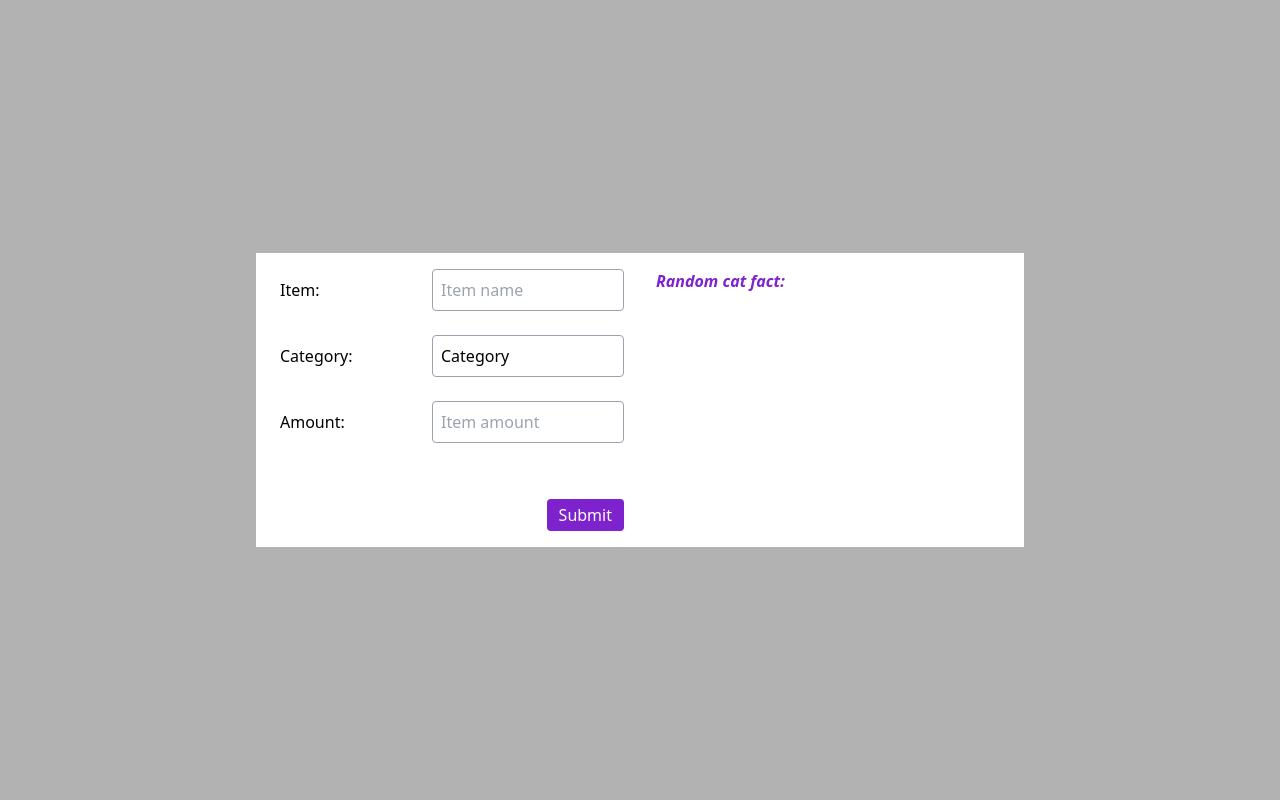
Scenario: ExpenseDialog › should have 3 categories: Food, Furniture and Accessory
Step 1. Click the button "Category" → coordinates (528, 356), box [432,335,624,377]
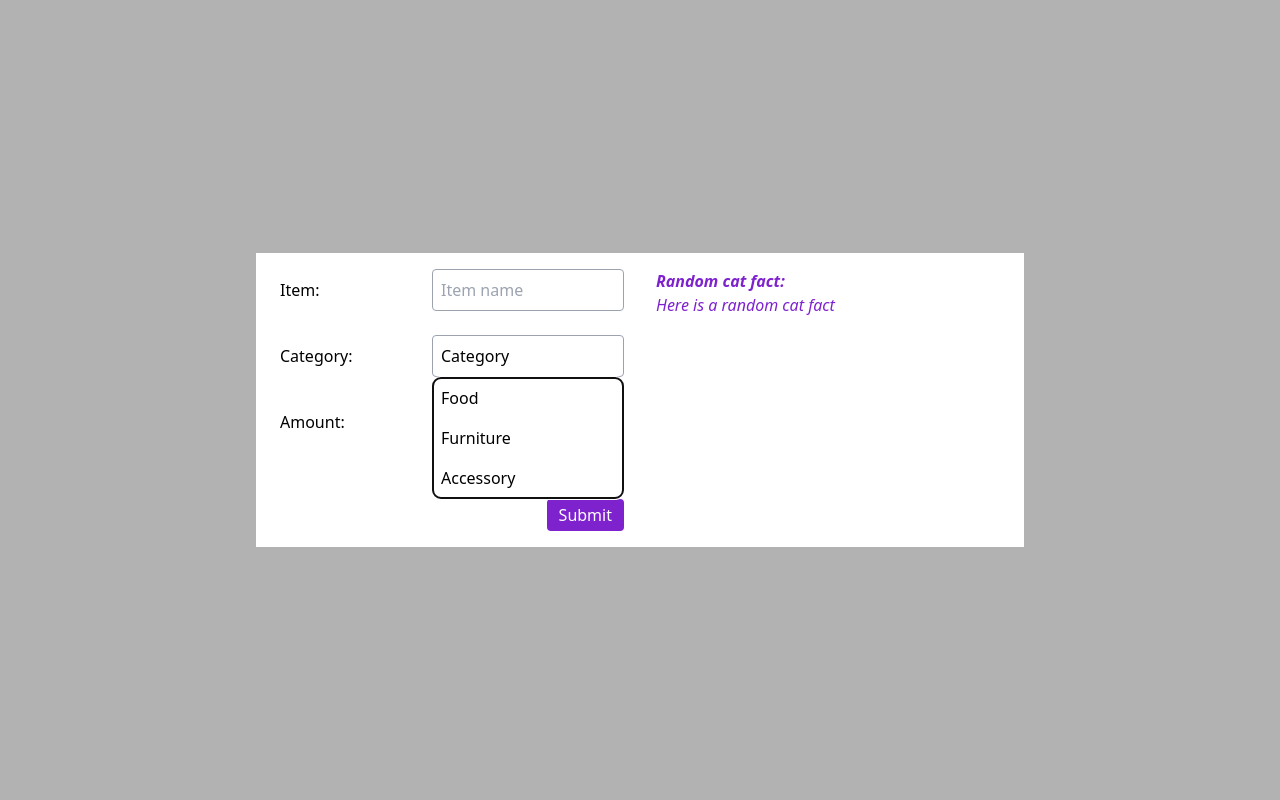
Check: the option "Food" is shown, box [441,387,478,409]
Check: the option "Furniture" is shown, box [441,427,511,449]
Check: the option "Accessory" is shown, box [441,467,515,489]
